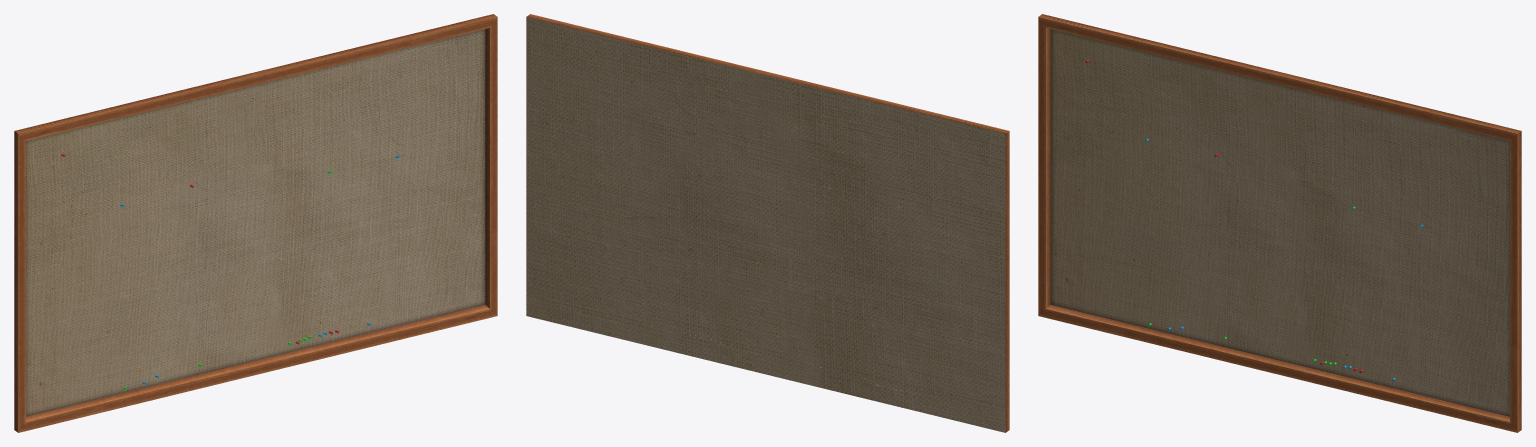
File: bulletin_board.dae
3 views of the same model, side by side, from view 1: azimuth 30°, elevation 25°; view 2: azimuth 150°, elevation 25°; view 3: azimuth 330°, elevation 25° (orthographic).
Parts seen in each view (by area): view 1: polySurface60; view 2: polySurface60; view 3: polySurface60.
Part boxes in pixels (bbox=[...]): polySurface60: bbox=[14, 14, 497, 432]; polySurface60: bbox=[526, 14, 1009, 432]; polySurface60: bbox=[1038, 14, 1521, 432].
Bounding box in the file's own units: 174 × 104 × 3.23.
